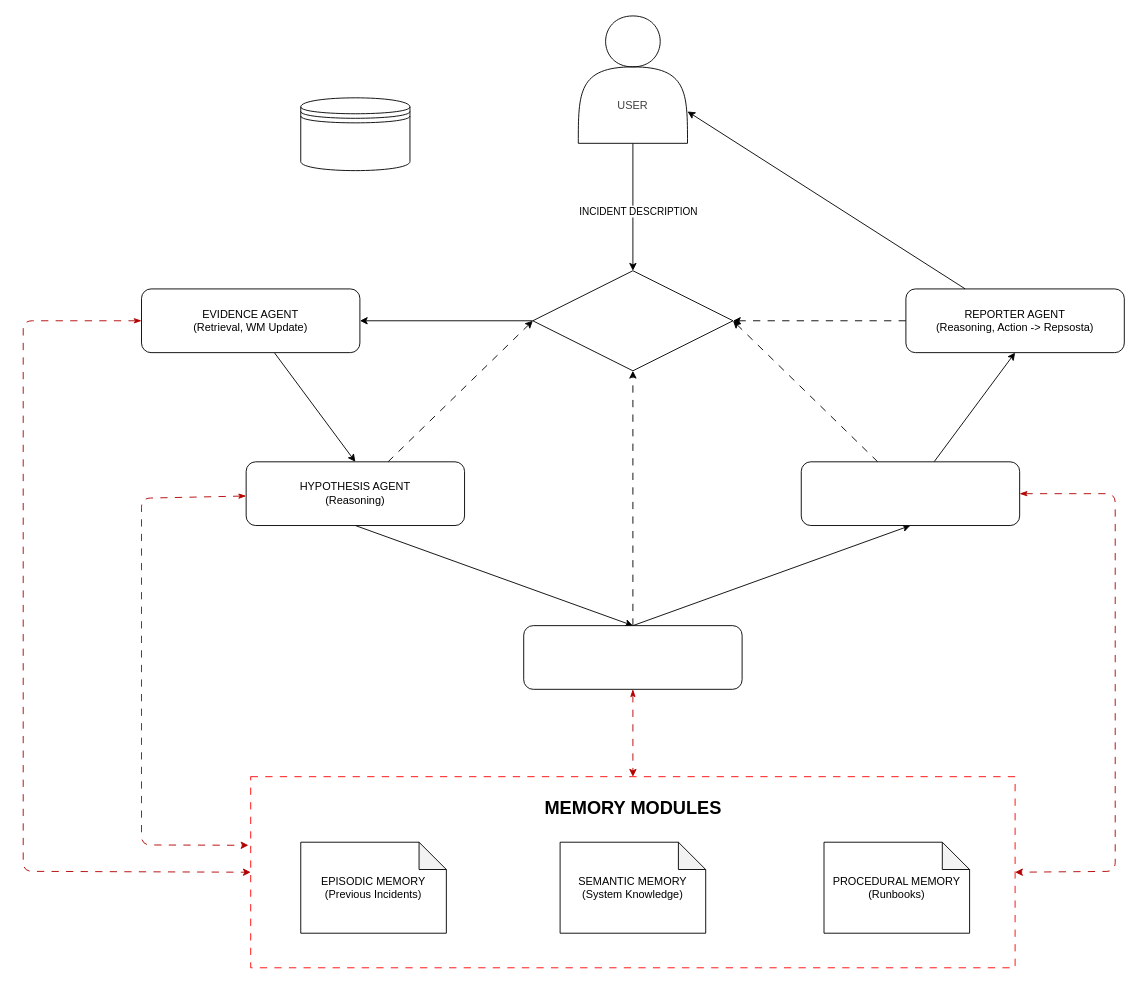
The diagram is 1140 pixels wide and 984 high, and some of its shapes have lost their labels. The box of each missing label's shape, as (x1, y1, x2, y2) in pixels:
CRITIC AGENT (Reasoning, Evaluation): (523, 625, 742, 689)
RESOLUTION AGENT (Decision Process, Reasoning): (800, 461, 1020, 526)
SUPERVISOR (Decision process): (532, 270, 733, 371)
WM (LangGraph State): (300, 97, 410, 171)
